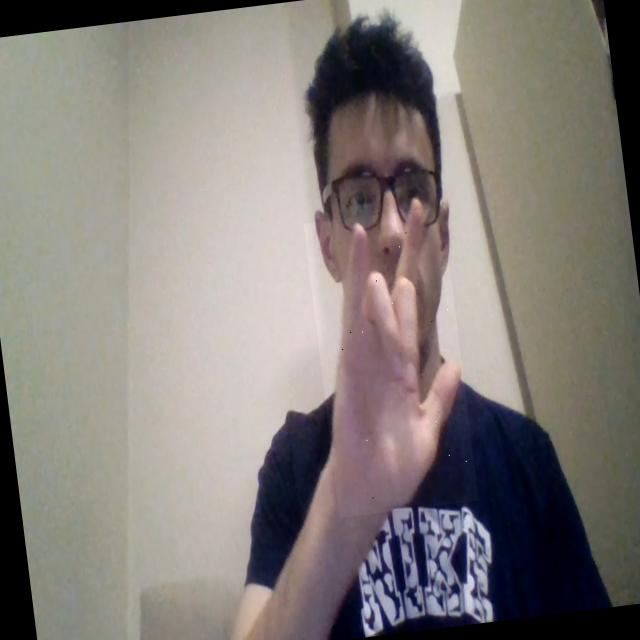iloveyou: (303, 206, 478, 517)
